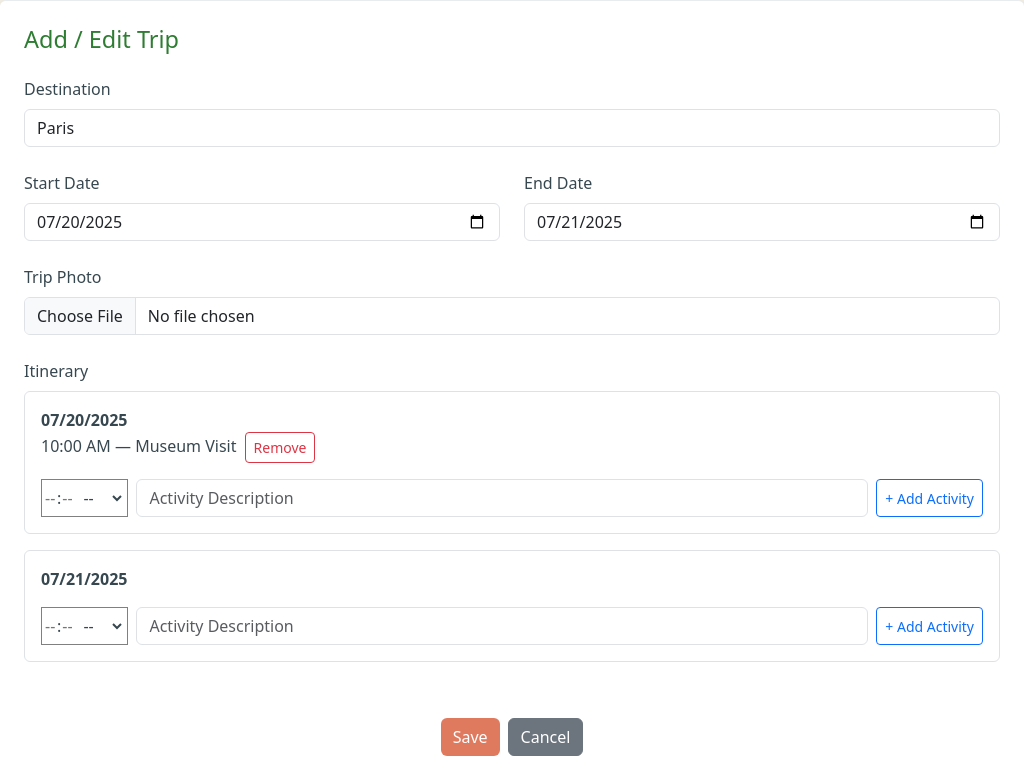
Scenario: TripForm › removes an activity from the itinerary
The image size is (1024, 768).
What coordinates should you click on to do the following:
click the button "Remove"
I would click on:
 (280, 448)
Its box is [244,432,315,463].
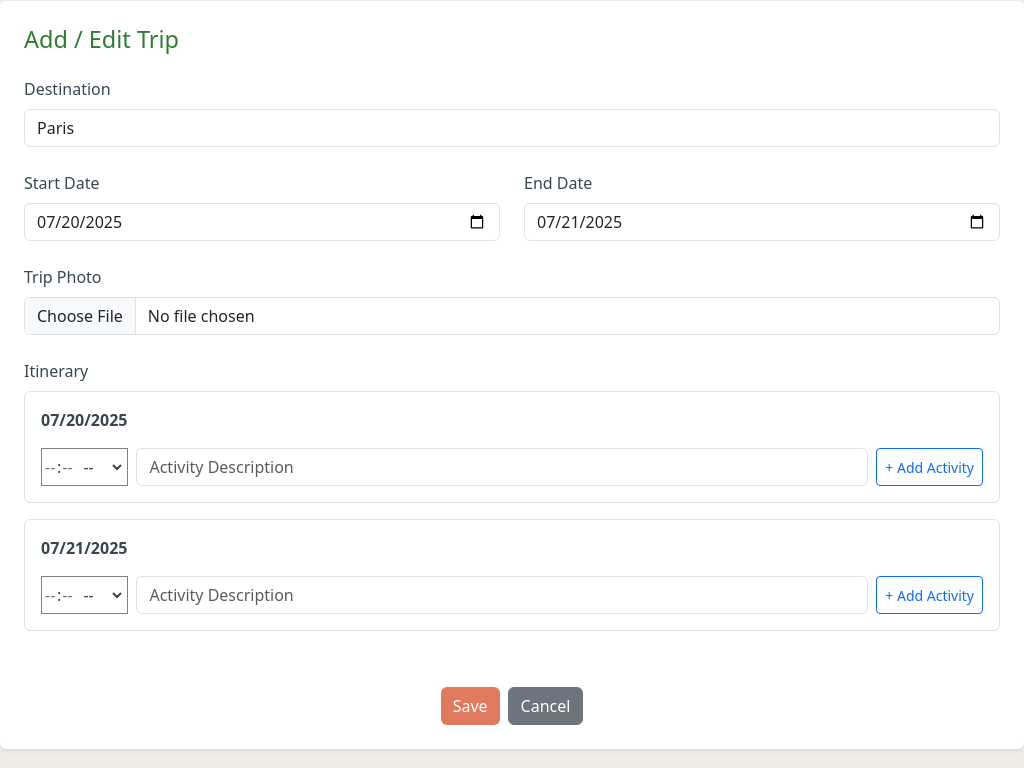
Now the list item "Museum Visit" is gone
